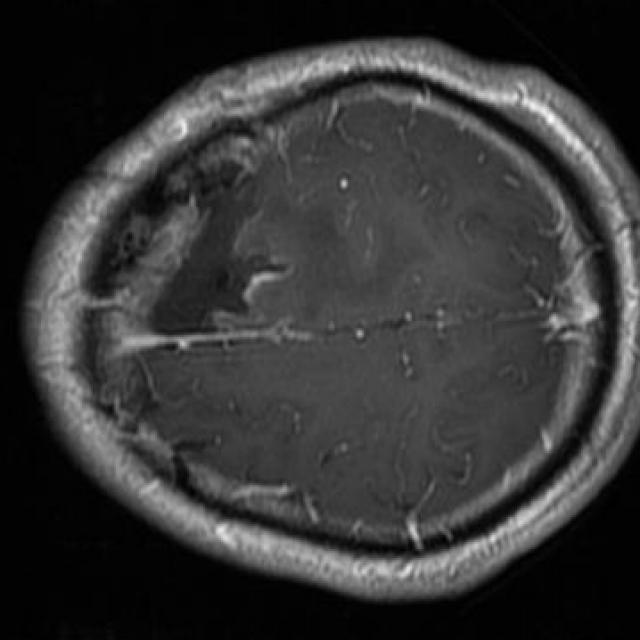glioma: (150, 166, 287, 333)
